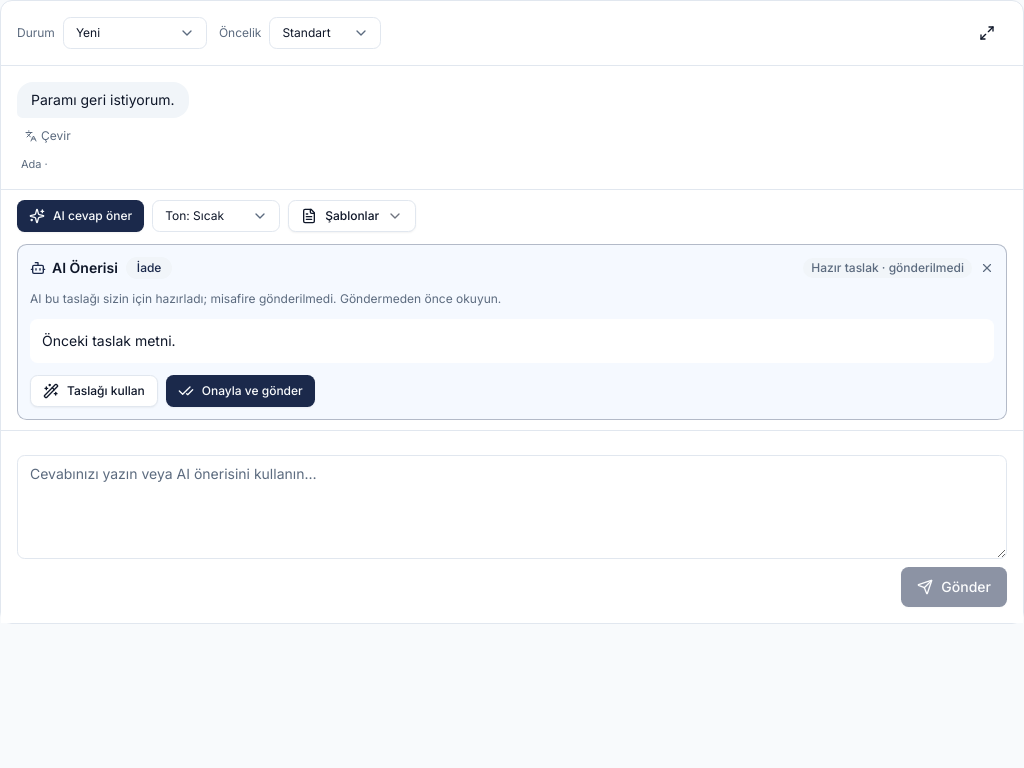
konuşma ekranı — yapay zekâ önerisi hazırlanamadığında (3d) › 🚨 bağlantı koparsa da önceki taslak kaybolmaz
What coordinates should you click on to do the following:
click the button "AI cevap öner"
I would click on:
 (81, 216)
Its box is [17,200,144,232].
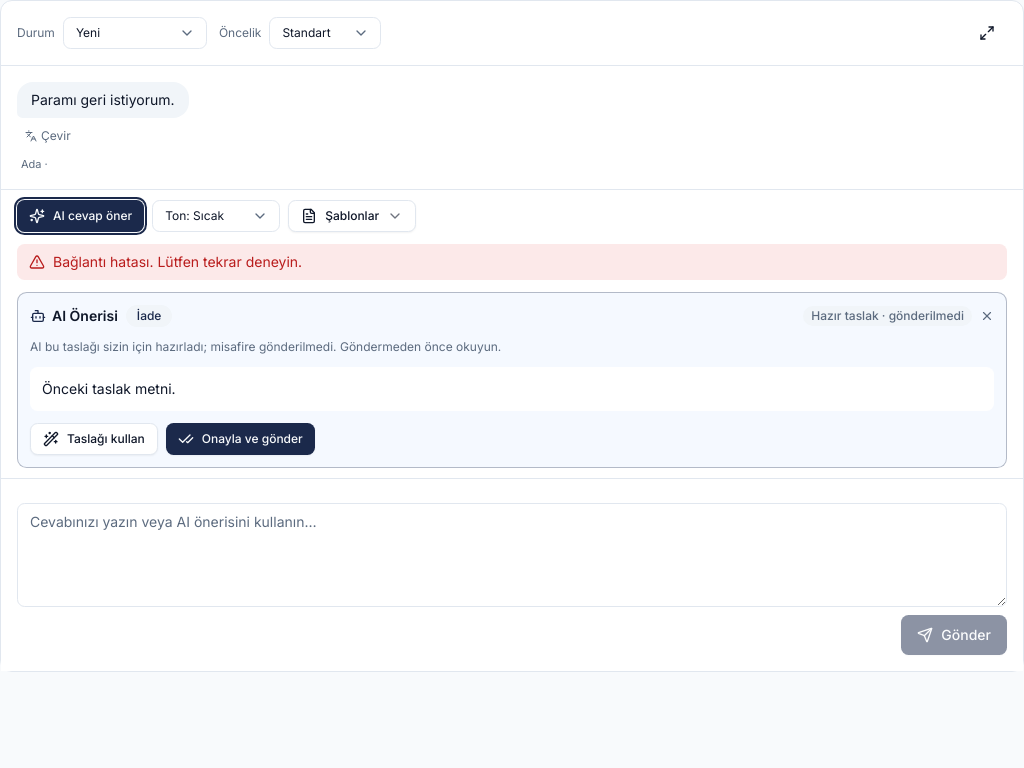
Expected: the text "Önceki taslak metni." is shown, [30,366,994,410]
Result: the text "Bağlantı hatası. Lütfen tekrar deneyin." is shown at [53,252,302,272]
